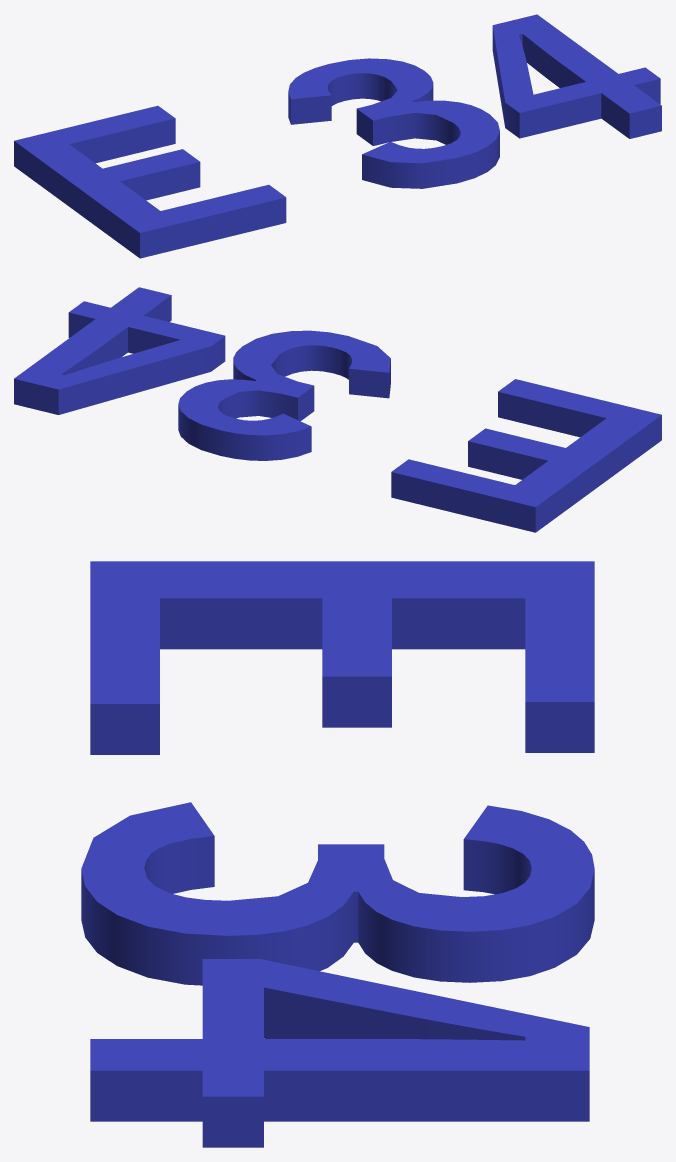
3 views of the same model, one above another, from view 1: azimuth 30°, elevation 25°; view 2: azimuth 150°, elevation 25°; view 3: azimuth 270°, elevation 25° (orthographic). The views are drawn at different scales.
Visible parts, largest first — view 1: node_id260; view 2: node_id260; view 3: node_id260.
Part boxes in pixels (x1,y1,x2,y2): node_id260: (14, 14, 661, 258); node_id260: (14, 287, 661, 532); node_id260: (81, 561, 594, 1147).
Bounding box in the file's own units: 0.4214 × 0.0188 × 0.1707.
